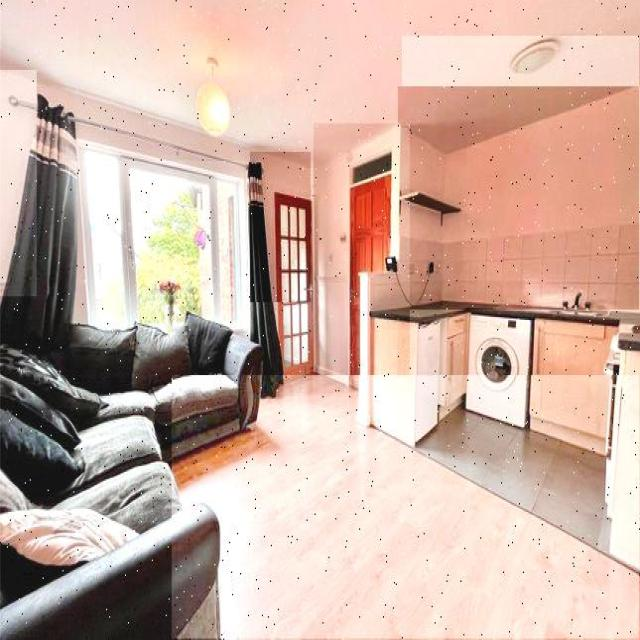Wall: (172, 377, 639, 639), (0, 0, 640, 161), (399, 87, 639, 310), (417, 409, 610, 552), (402, 36, 639, 150), (314, 124, 410, 385), (250, 152, 311, 302), (0, 71, 37, 296), (357, 273, 407, 426)
